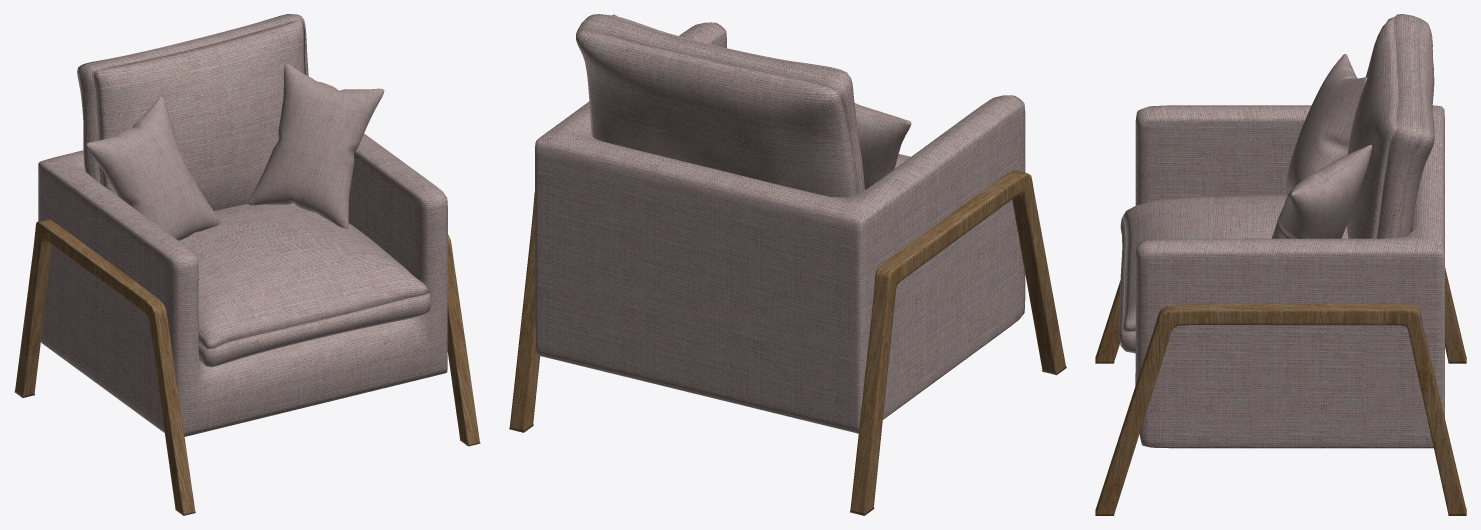
File: Armchair.fbx
3 views of the same model, side by side, from view 1: azimuth 30°, elevation 25°; view 2: azimuth 150°, elevation 25°; view 3: azimuth 270°, elevation 25° (orthographic). The views are drawn at different scales.
Parts seen in each view (by area): view 1: Chair, Pillow_6, Pillow_5; view 2: Chair, Pillow_5; view 3: Chair, Pillow_6, Pillow_5.
Boxes of the visible parts, left/top/right/bottom form: Chair: left=14, top=14, right=480, bottom=515; Pillow_6: left=248, top=63, right=384, bottom=228; Pillow_5: left=86, top=96, right=221, bottom=240; Chair: left=509, top=14, right=1066, bottom=515; Pillow_5: left=854, top=103, right=911, bottom=189; Chair: left=1095, top=14, right=1466, bottom=515; Pillow_6: left=1271, top=145, right=1371, bottom=238; Pillow_5: left=1286, top=54, right=1367, bottom=195.
Size of the model in its own units: 327 by 353 by 322.
